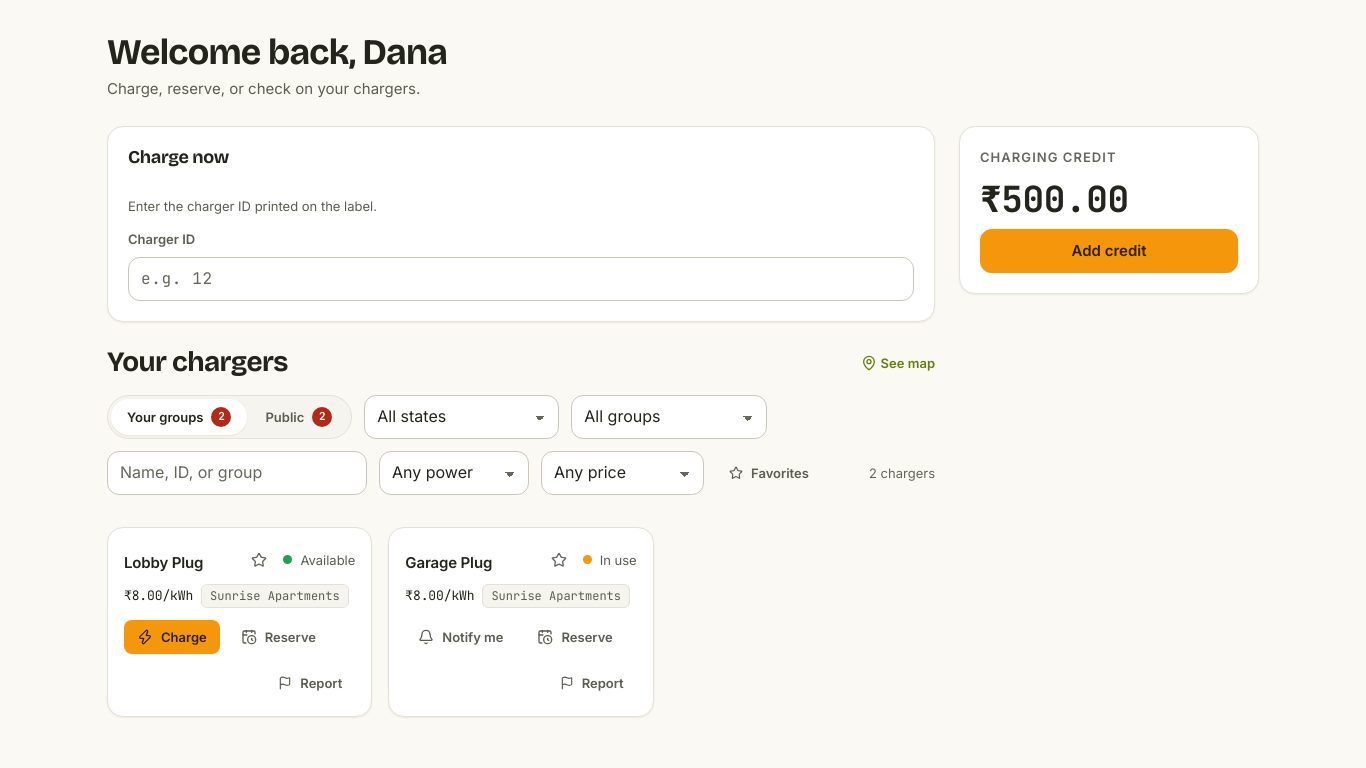
Test: Dashboard — charger grid › the state filter narrows the grid to one availability bucket
Expected: the heading "Lobby Plug" is shown, [124,553,203,572]
Select "In use" in the dropdown named "Filter by state": point(462, 417) [364,395,559,439]
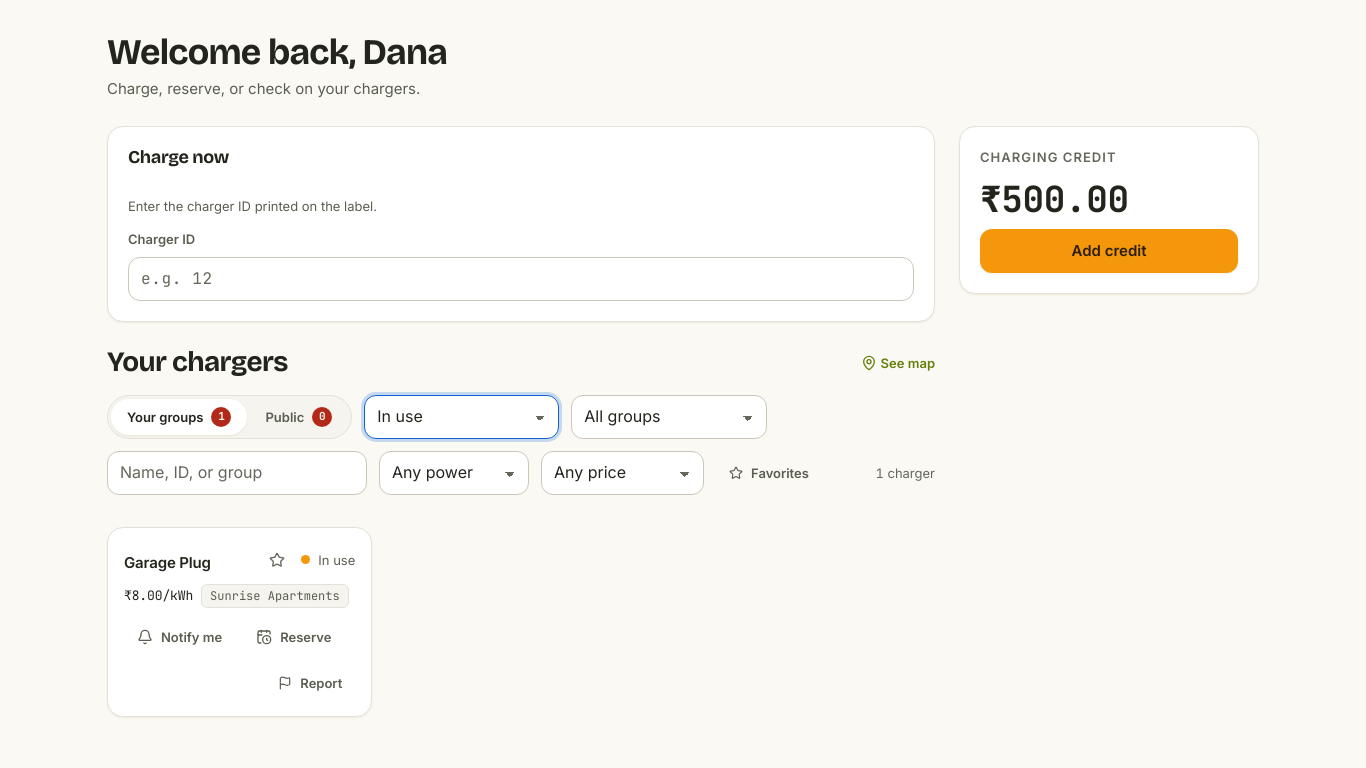
Expected: the heading "Garage Plug" is shown, [124,553,211,572]
Expected: the heading "Lobby Plug" is gone
